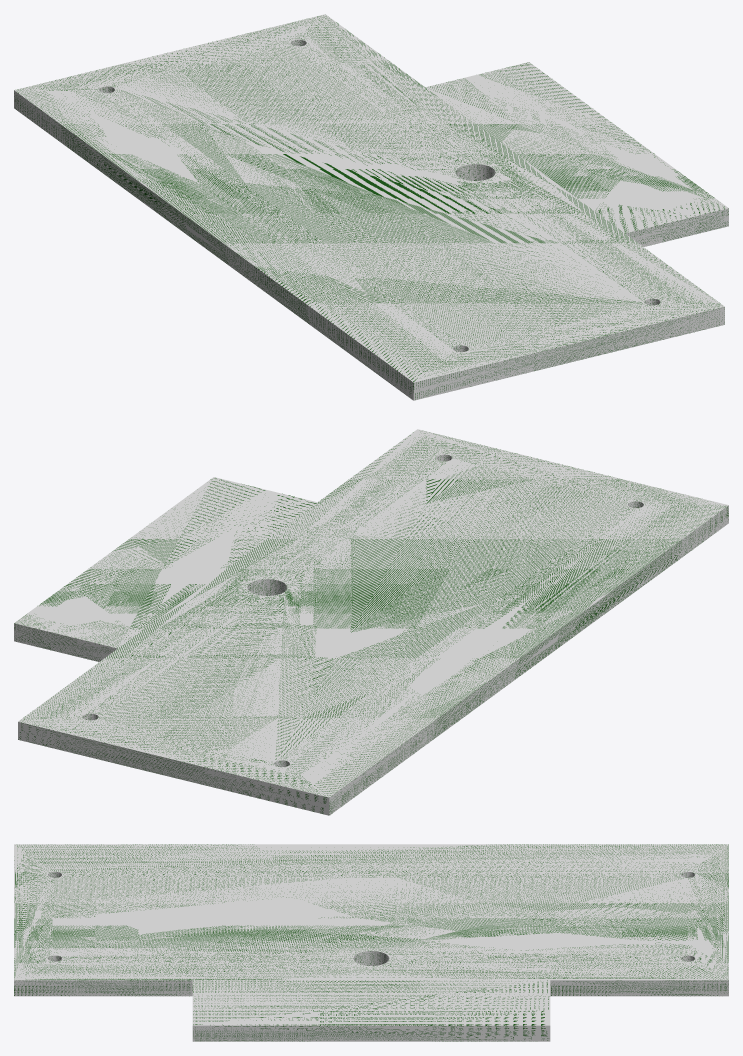
Rendered from DEPRECATED_top_plate.dae.
3 views of the same model, one above another, from view 1: azimuth 30°, elevation 25°; view 2: azimuth 150°, elevation 25°; view 3: azimuth 270°, elevation 25° (orthographic). The views are drawn at different scales.
Parts seen in each view (by area): view 1: group_0; view 2: group_0; view 3: group_0 (×2).
Part boxes in pixels (left/top/right/bottom): group_0: left=14, top=14, right=728, bottom=400; group_0: left=14, top=429, right=728, bottom=815; group_0 (×2): left=14, top=844, right=728, bottom=1041.
Size of the model in its own units: 6 by 10 by 0.25.
